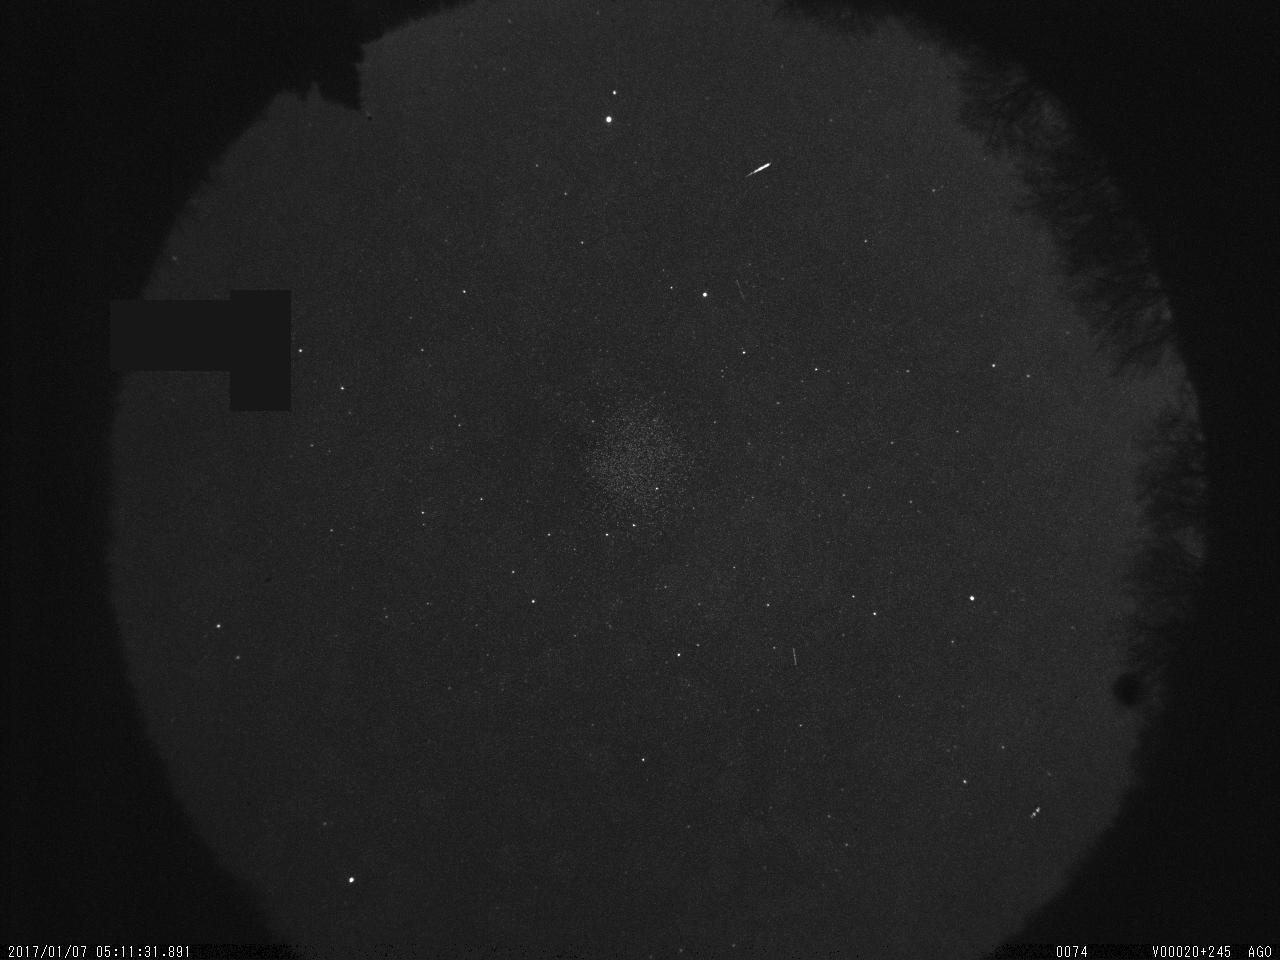meteor: (730, 149, 791, 188)
